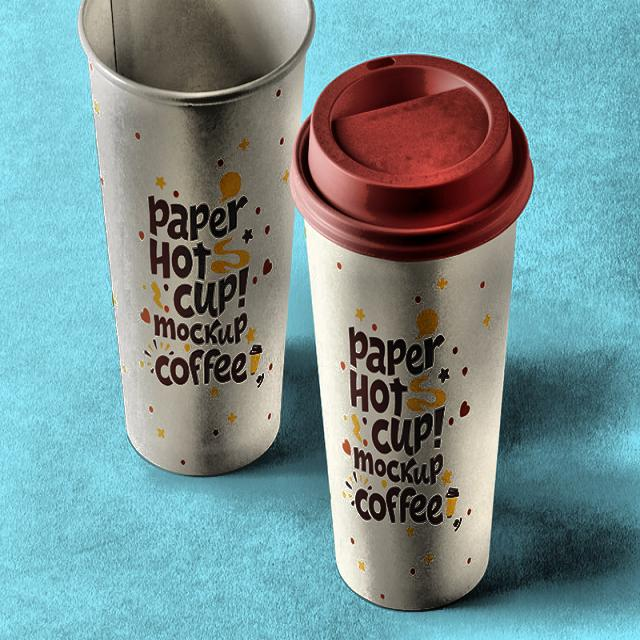Cup: (298, 66, 529, 619), (67, 0, 320, 494)
